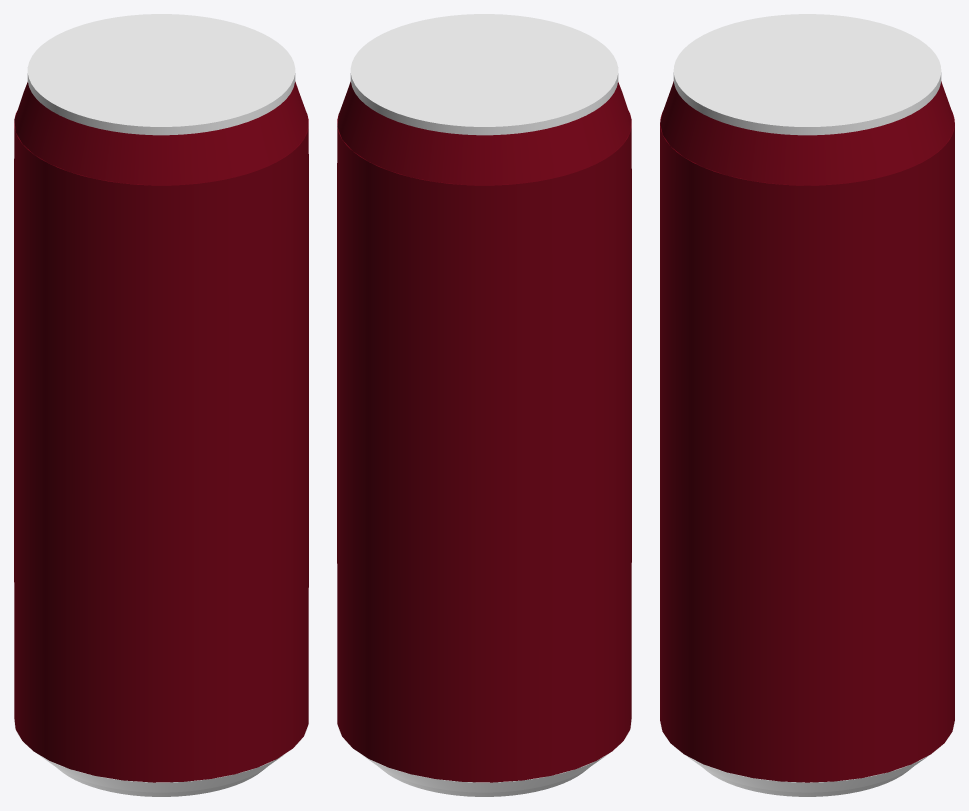
File: mark.dae
3 views of the same model, side by side, from view 1: azimuth 30°, elevation 25°; view 2: azimuth 150°, elevation 25°; view 3: azimuth 270°, elevation 25° (orthographic).
Visible parts, largest first — view 1: Body1, Body1.002, Body1.001; view 2: Body1, Body1.002, Body1.001; view 3: Body1, Body1.002, Body1.001.
Boxes of the visible parts, <box> form: Body1: <box>14,81,308,782</box>; Body1.002: <box>27,14,295,135</box>; Body1.001: <box>14,719,308,796</box>; Body1: <box>337,81,631,782</box>; Body1.002: <box>350,14,618,135</box>; Body1.001: <box>337,719,631,796</box>; Body1: <box>660,81,954,782</box>; Body1.002: <box>673,14,941,135</box>; Body1.001: <box>660,722,954,796</box>.
Size of the model in its own units: 0.065 by 0.065 by 0.165.
